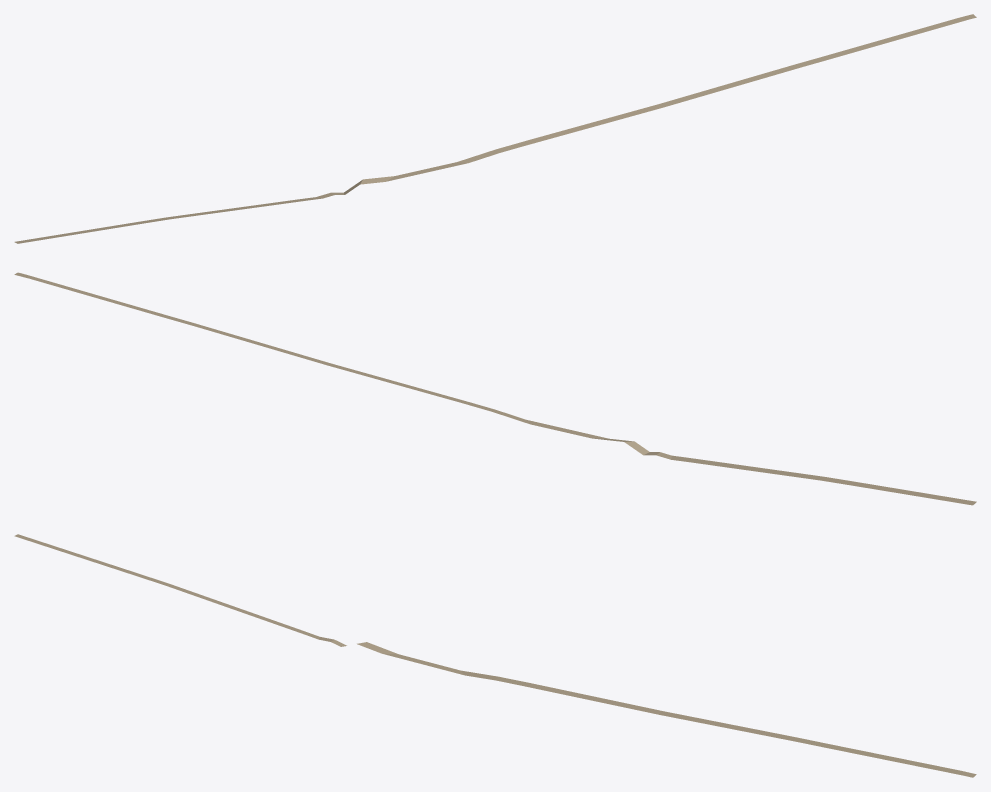
Rendered from farm_-10_8_track.glb.
3 renders of one model, top to bottom at view 1: azimuth 30°, elevation 25°; view 2: azimuth 150°, elevation 25°; view 3: azimuth 330°, elevation 25°, orthographic.
Parts seen in each view (by area): view 1: geometry_0; view 2: geometry_0; view 3: geometry_0.
Part boxes in pixels (x1=…): geometry_0: x1=14, y1=14, x2=976, y2=243; geometry_0: x1=14, y1=272, x2=976, y2=505; geometry_0: x1=14, y1=534, x2=976, y2=777.
Bounding box in the file's own units: 467 × 14.71 × 4.59.
